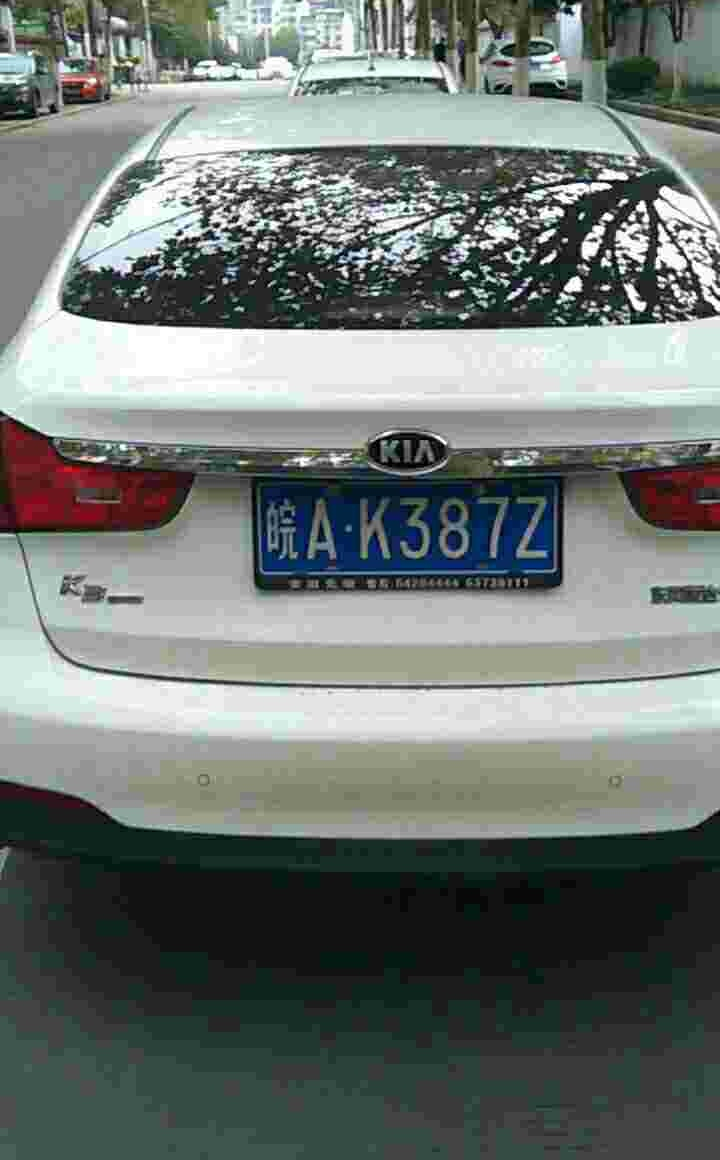license_plate: (259, 483, 563, 572)
